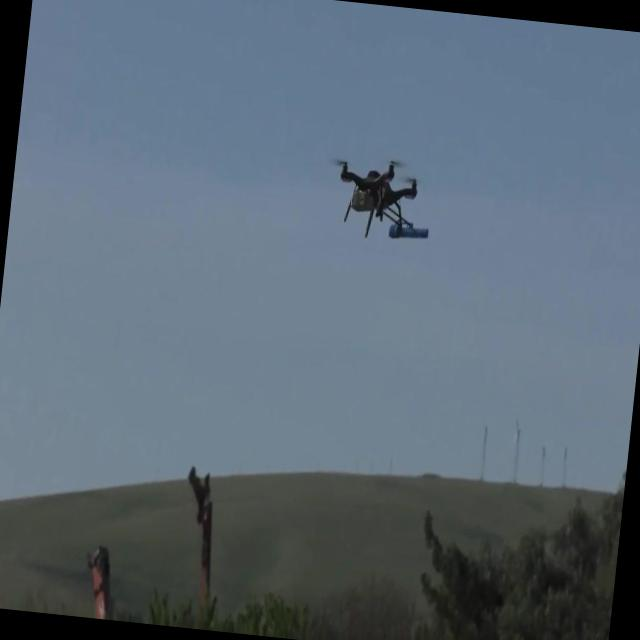drone: (321, 149, 437, 247)
